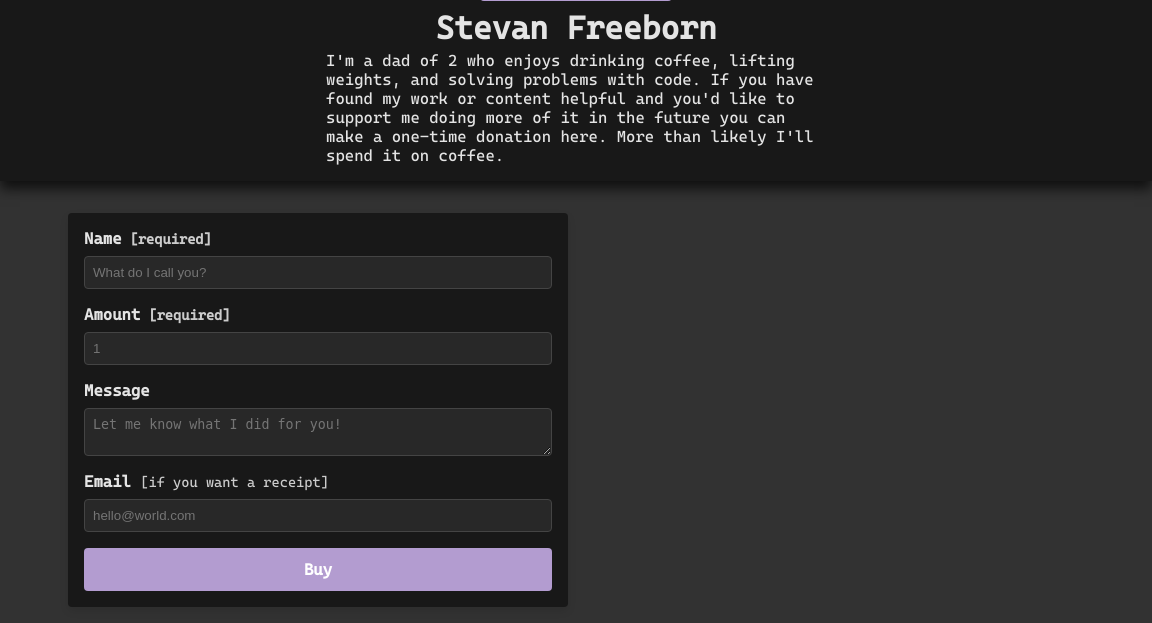
Scenario: form › it should require the amount to be provided
(page scrolled)
Click the button "Buy": (318, 570) [84, 548, 552, 591]
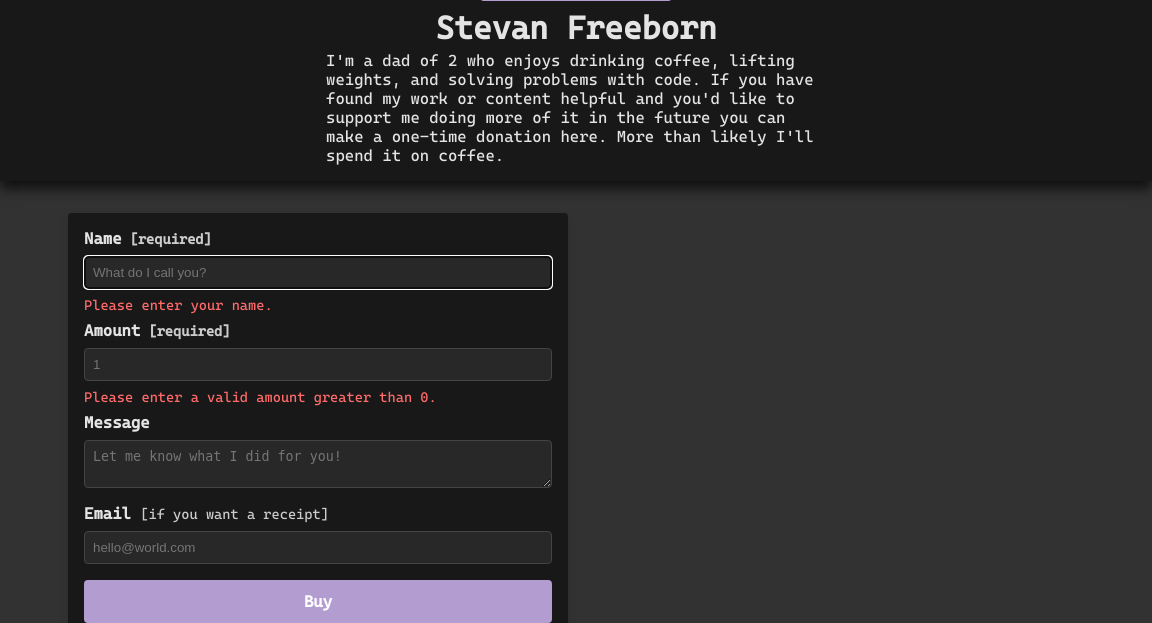
Expected: the text "Please enter a valid amount greater than 0." is shown, [84, 389, 437, 405]
